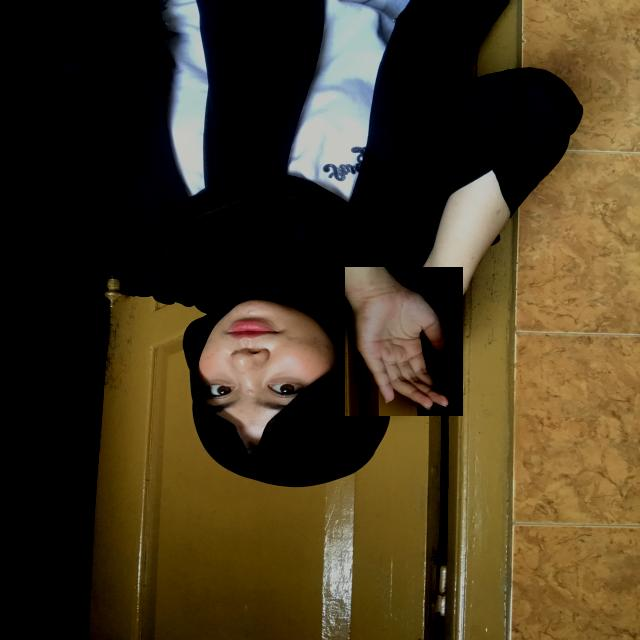mendengar: (345, 267, 463, 416)
